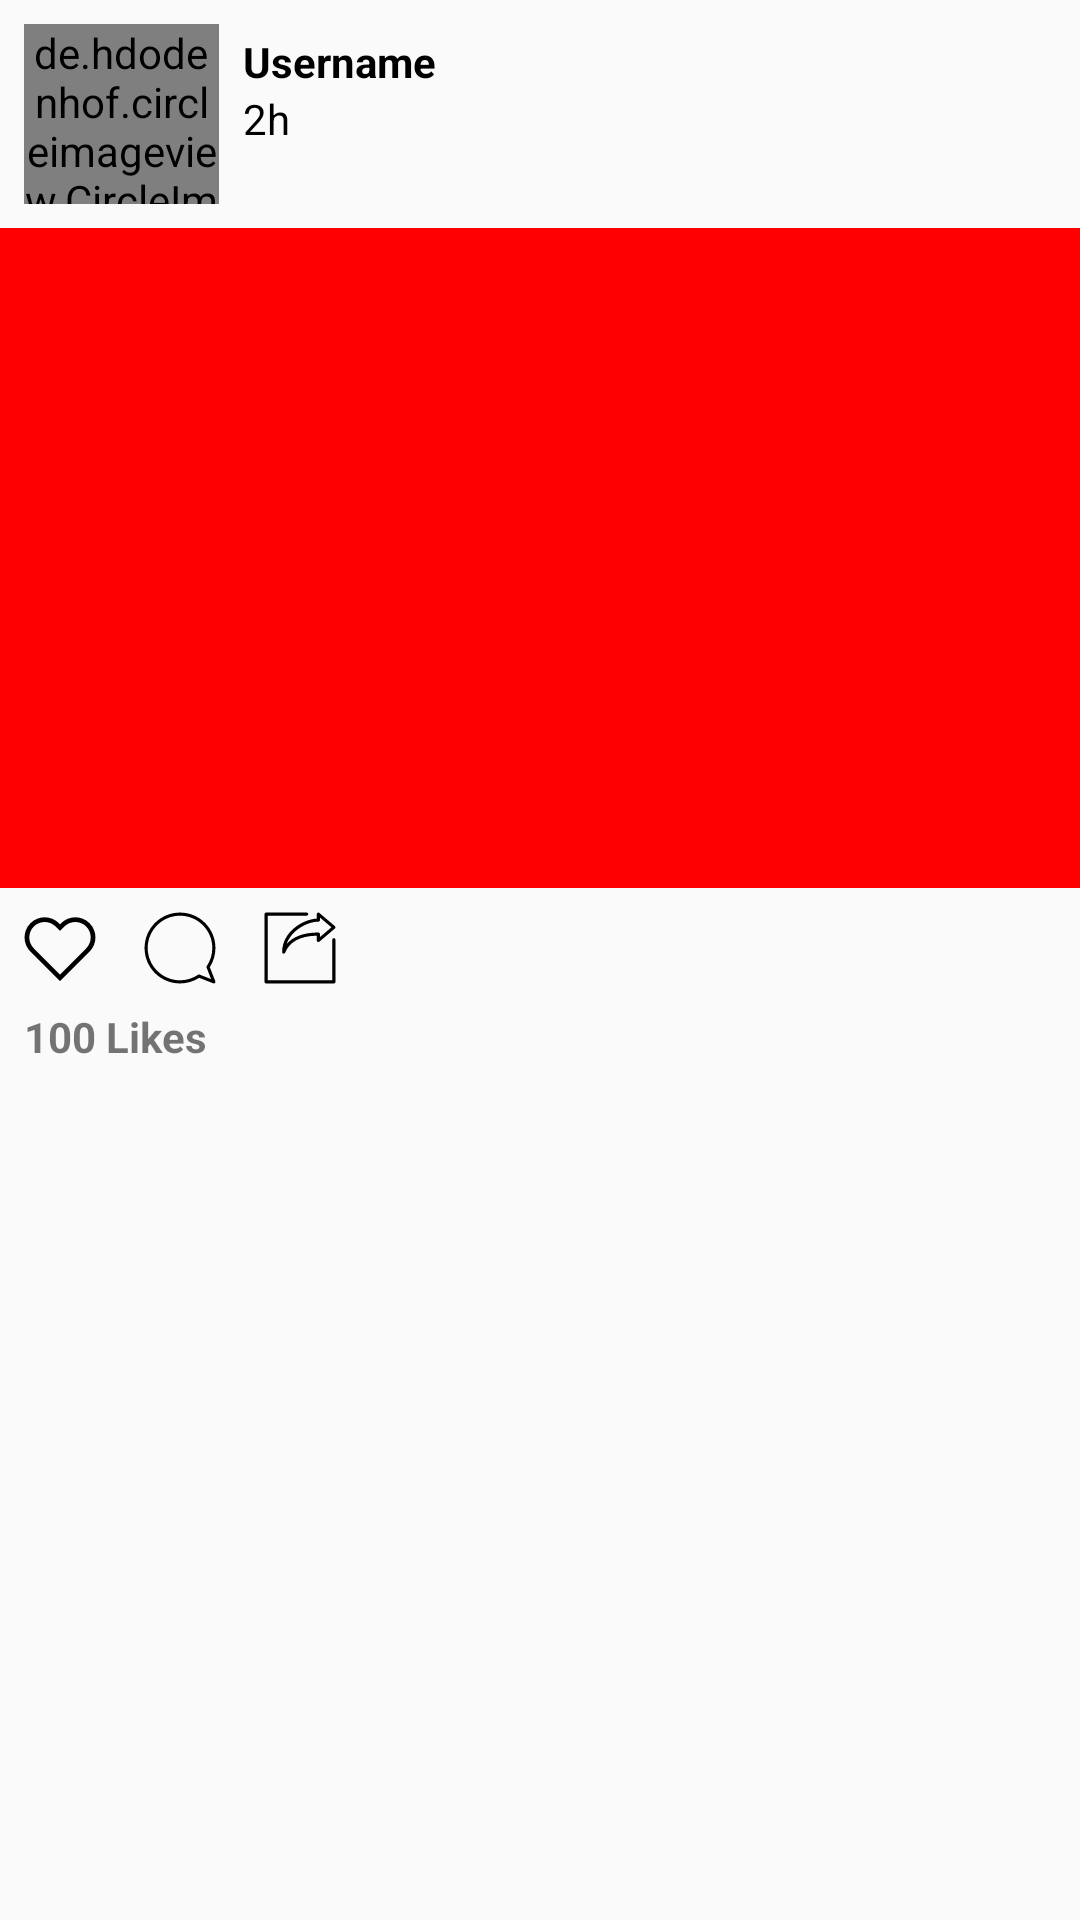

Where to tap for icons on this 1080w x 1920h app screen, as [x,y]:
comment: [180,948]
heart: [60,949]
share: [300,948]
